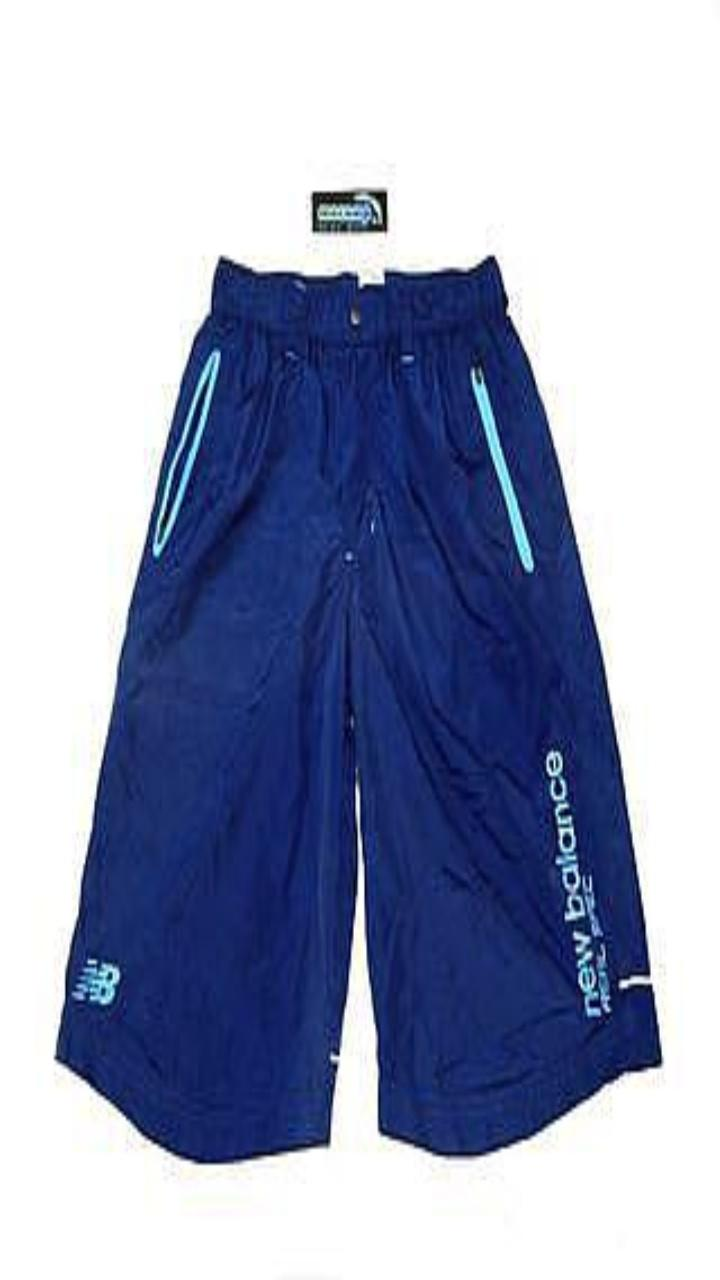Shorts: (57, 260, 659, 1160)
